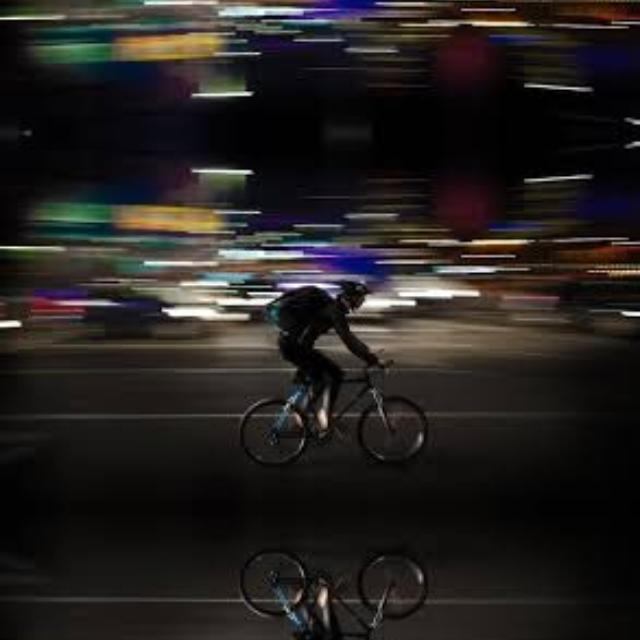obstacle: (228, 340, 450, 474), (228, 540, 449, 640)
